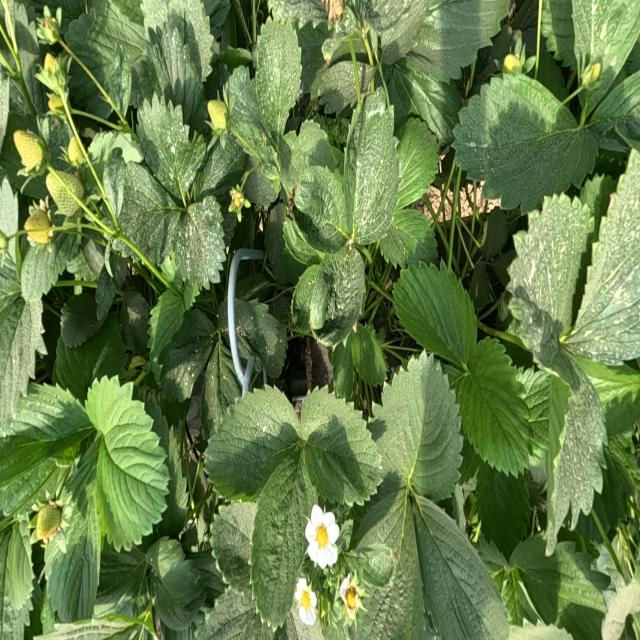Flowers: (305, 506, 339, 568), (292, 577, 317, 627), (339, 575, 362, 617)
Leaves: (453, 73, 597, 211), (84, 376, 169, 549), (573, 153, 639, 367), (409, 494, 507, 638), (509, 196, 593, 363), (376, 354, 462, 499), (0, 383, 92, 515), (250, 447, 317, 628), (347, 486, 423, 639), (205, 387, 299, 498), (47, 435, 102, 623), (458, 340, 531, 474), (301, 388, 383, 504), (65, 1, 146, 116), (394, 263, 476, 366), (552, 381, 607, 526), (409, 0, 508, 80), (137, 94, 206, 202), (138, 23, 205, 131), (573, 1, 639, 110), (349, 106, 399, 245), (141, 0, 214, 82), (1, 297, 44, 433), (117, 159, 171, 267), (56, 320, 126, 401), (146, 401, 188, 536), (254, 17, 301, 137), (392, 60, 459, 144), (158, 310, 215, 402), (146, 538, 202, 630), (476, 464, 530, 556), (355, 0, 433, 63), (293, 166, 350, 252), (227, 66, 276, 164), (173, 197, 225, 289), (264, 201, 319, 284), (318, 247, 364, 345), (586, 71, 639, 152), (511, 535, 559, 623), (210, 502, 257, 591), (196, 585, 271, 639), (396, 119, 439, 212), (93, 549, 149, 618), (555, 545, 607, 618), (516, 367, 553, 467), (201, 343, 239, 439), (280, 120, 331, 190), (234, 300, 284, 371), (380, 208, 436, 267), (22, 237, 69, 301), (197, 131, 243, 195), (491, 567, 537, 625), (5, 520, 34, 611), (0, 177, 20, 300), (311, 60, 357, 113), (542, 0, 576, 69), (349, 325, 387, 385), (294, 264, 328, 331), (60, 292, 99, 347), (120, 292, 149, 355), (482, 209, 508, 258), (333, 338, 353, 401), (469, 260, 491, 311), (96, 267, 115, 315), (492, 248, 516, 285), (358, 62, 375, 96)
Strawberries: (46, 168, 83, 216), (14, 131, 43, 171), (25, 205, 51, 246), (35, 502, 60, 540), (207, 100, 227, 132), (36, 18, 58, 43), (229, 188, 244, 215), (48, 94, 64, 116), (68, 138, 81, 163), (503, 55, 521, 71), (587, 64, 599, 82), (45, 54, 56, 73)
